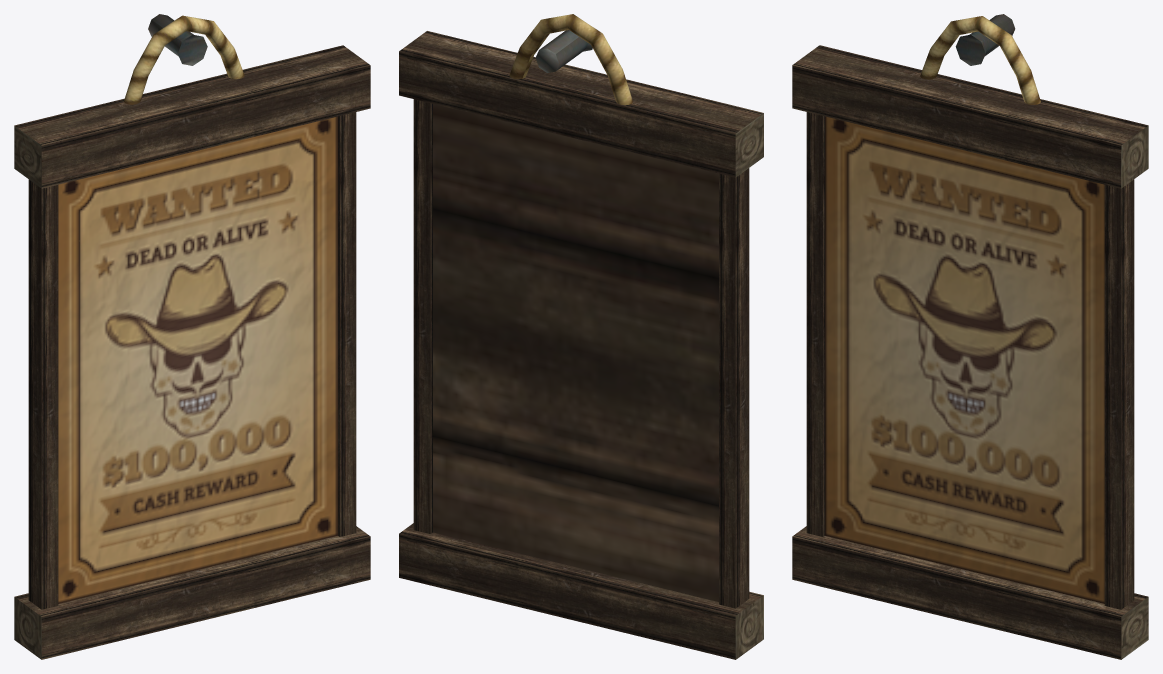
File: wanted-08.fbx
The picture shows the model from 3 angles, left to right: view 1: azimuth 30°, elevation 25°; view 2: azimuth 150°, elevation 25°; view 3: azimuth 330°, elevation 25°; orthographic projection. The views are drawn at different scales.
Parts seen in each view (by area): view 1: IronFence_door.001_Untitled.034; view 2: IronFence_door.001_Untitled.034; view 3: IronFence_door.001_Untitled.034.
Boxes of the visible parts, <box> form: IronFence_door.001_Untitled.034: <box>14,14,370,659</box>; IronFence_door.001_Untitled.034: <box>399,14,763,659</box>; IronFence_door.001_Untitled.034: <box>792,14,1148,659</box>.
Bounding box in the file's own units: 0.6705 × 1.14 × 0.1656.
